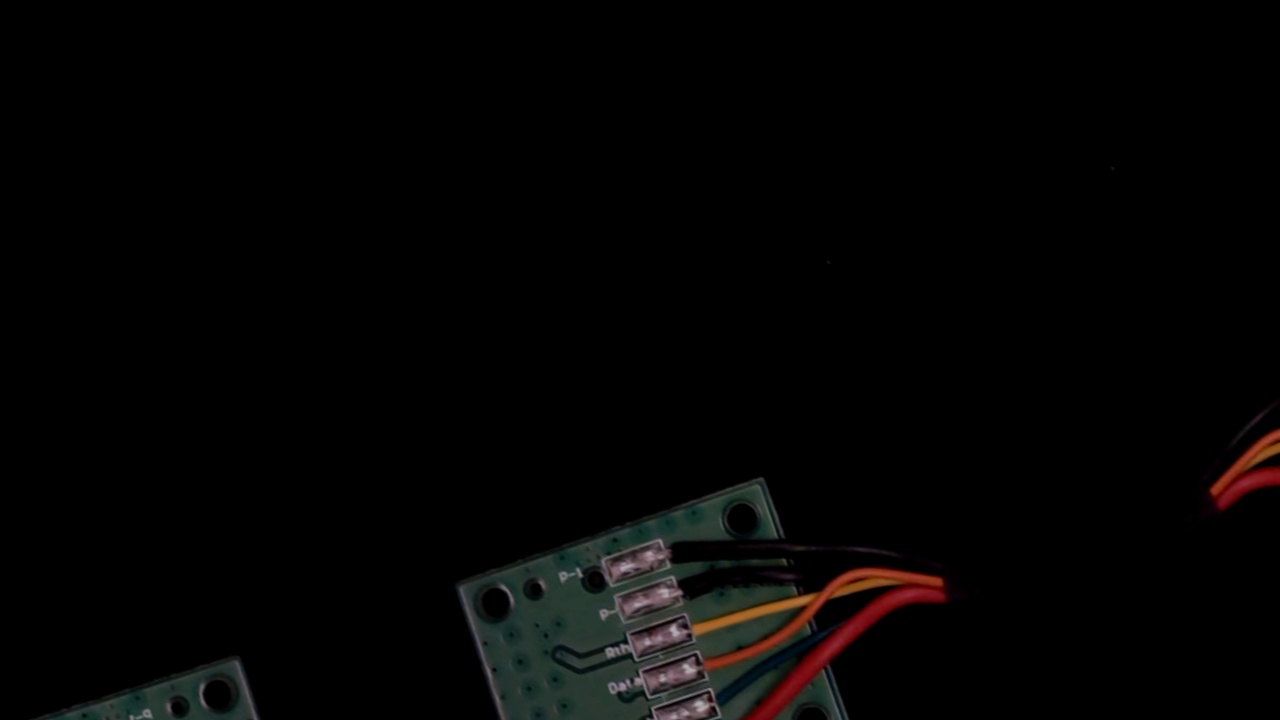Black: (650, 558, 730, 613)
Black1: (639, 524, 713, 576)
Green: (687, 670, 764, 720)
Orange: (676, 634, 754, 687)
Red: (700, 710, 777, 720)
Yellow: (662, 596, 743, 651)
